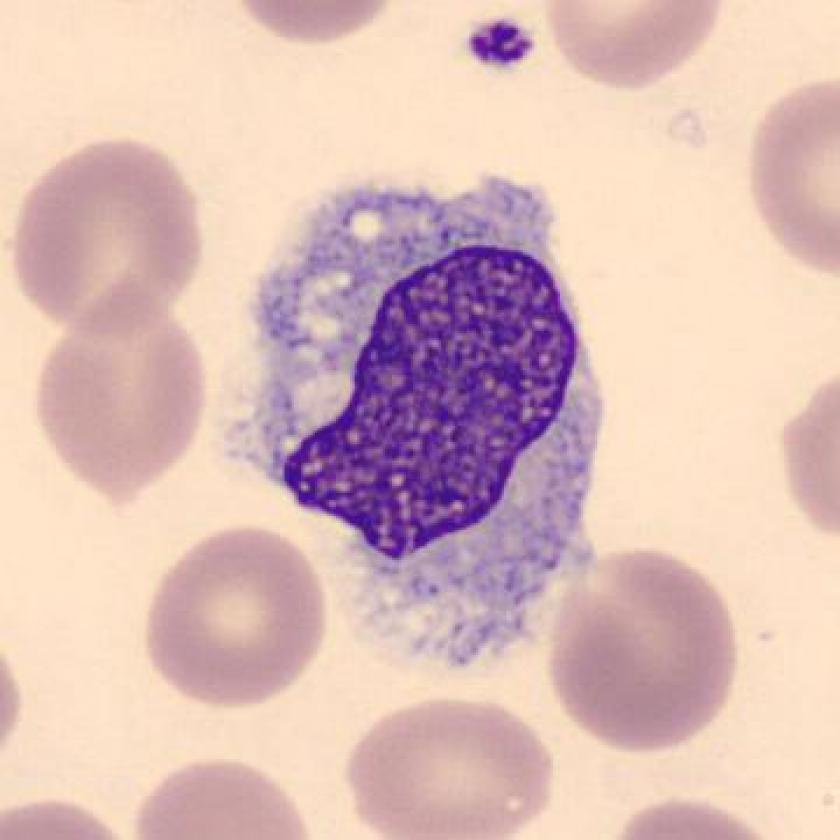monocyte: (216, 156, 640, 705)
